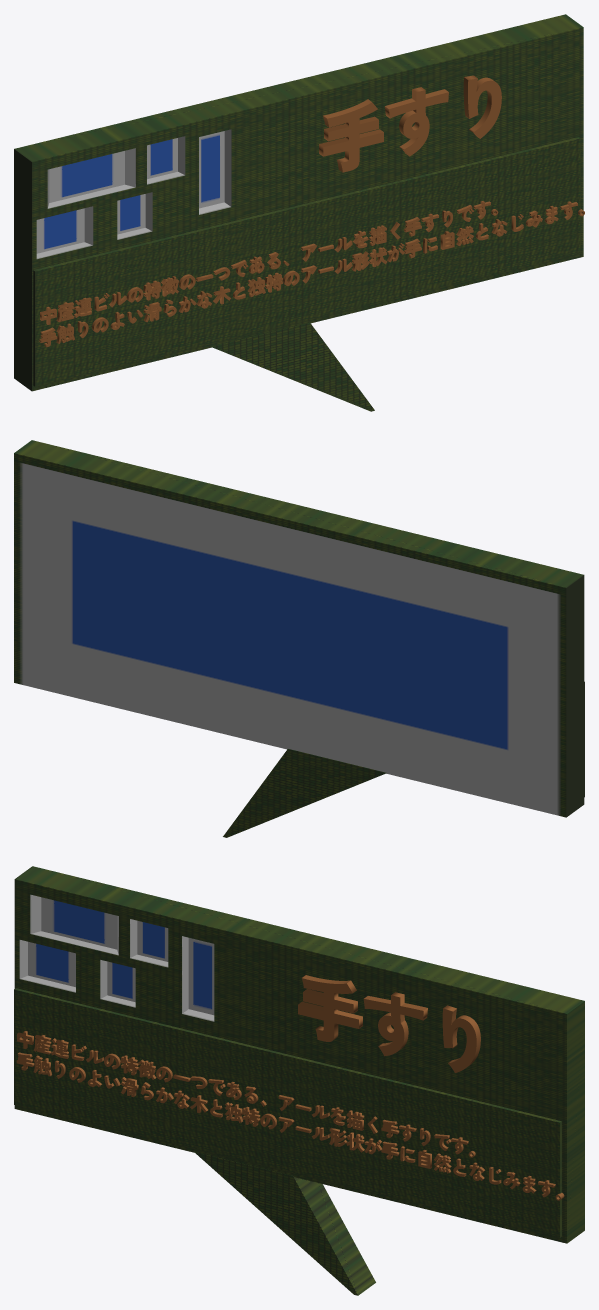
File: fukidasi-tesri.glb
The picture shows the model from 3 angles, top to bottom: view 1: azimuth 30°, elevation 25°; view 2: azimuth 150°, elevation 25°; view 3: azimuth 330°, elevation 25°; orthographic projection.
Parts seen in each view (by area): view 1: 立方体, 立方体.002, テキスト, テキスト.002, 立方体.001; view 2: 立方体, 立方体.001; view 3: 立方体, 立方体.002, テキスト, 立方体.001, テキスト.002.
Boxes of the visible parts, x1=… form: 立方体: x1=14, y1=14, x2=583, y2=391; 立方体.002: x1=33, y1=137, x2=580, y2=386; テキスト: x1=39, y1=201, x2=584, y2=347; テキスト.002: x1=319, y1=75, x2=501, y2=172; 立方体.001: x1=211, y1=322, x2=374, y2=411; 立方体: x1=14, y1=440, x2=584, y2=817; 立方体.001: x1=223, y1=749, x2=386, y2=837; 立方体: x1=14, y1=866, x2=584, y2=1243; 立方体.002: x1=14, y1=988, x2=561, y2=1237; テキスト: x1=16, y1=1031, x2=564, y2=1200; 立方体.001: x1=194, y1=1151, x2=375, y2=1295; テキスト.002: x1=298, y1=975, x2=480, y2=1072.
Size of the model in its own units: 11.12 by 6.4 by 0.7737.
4 materials, 3 textured.
